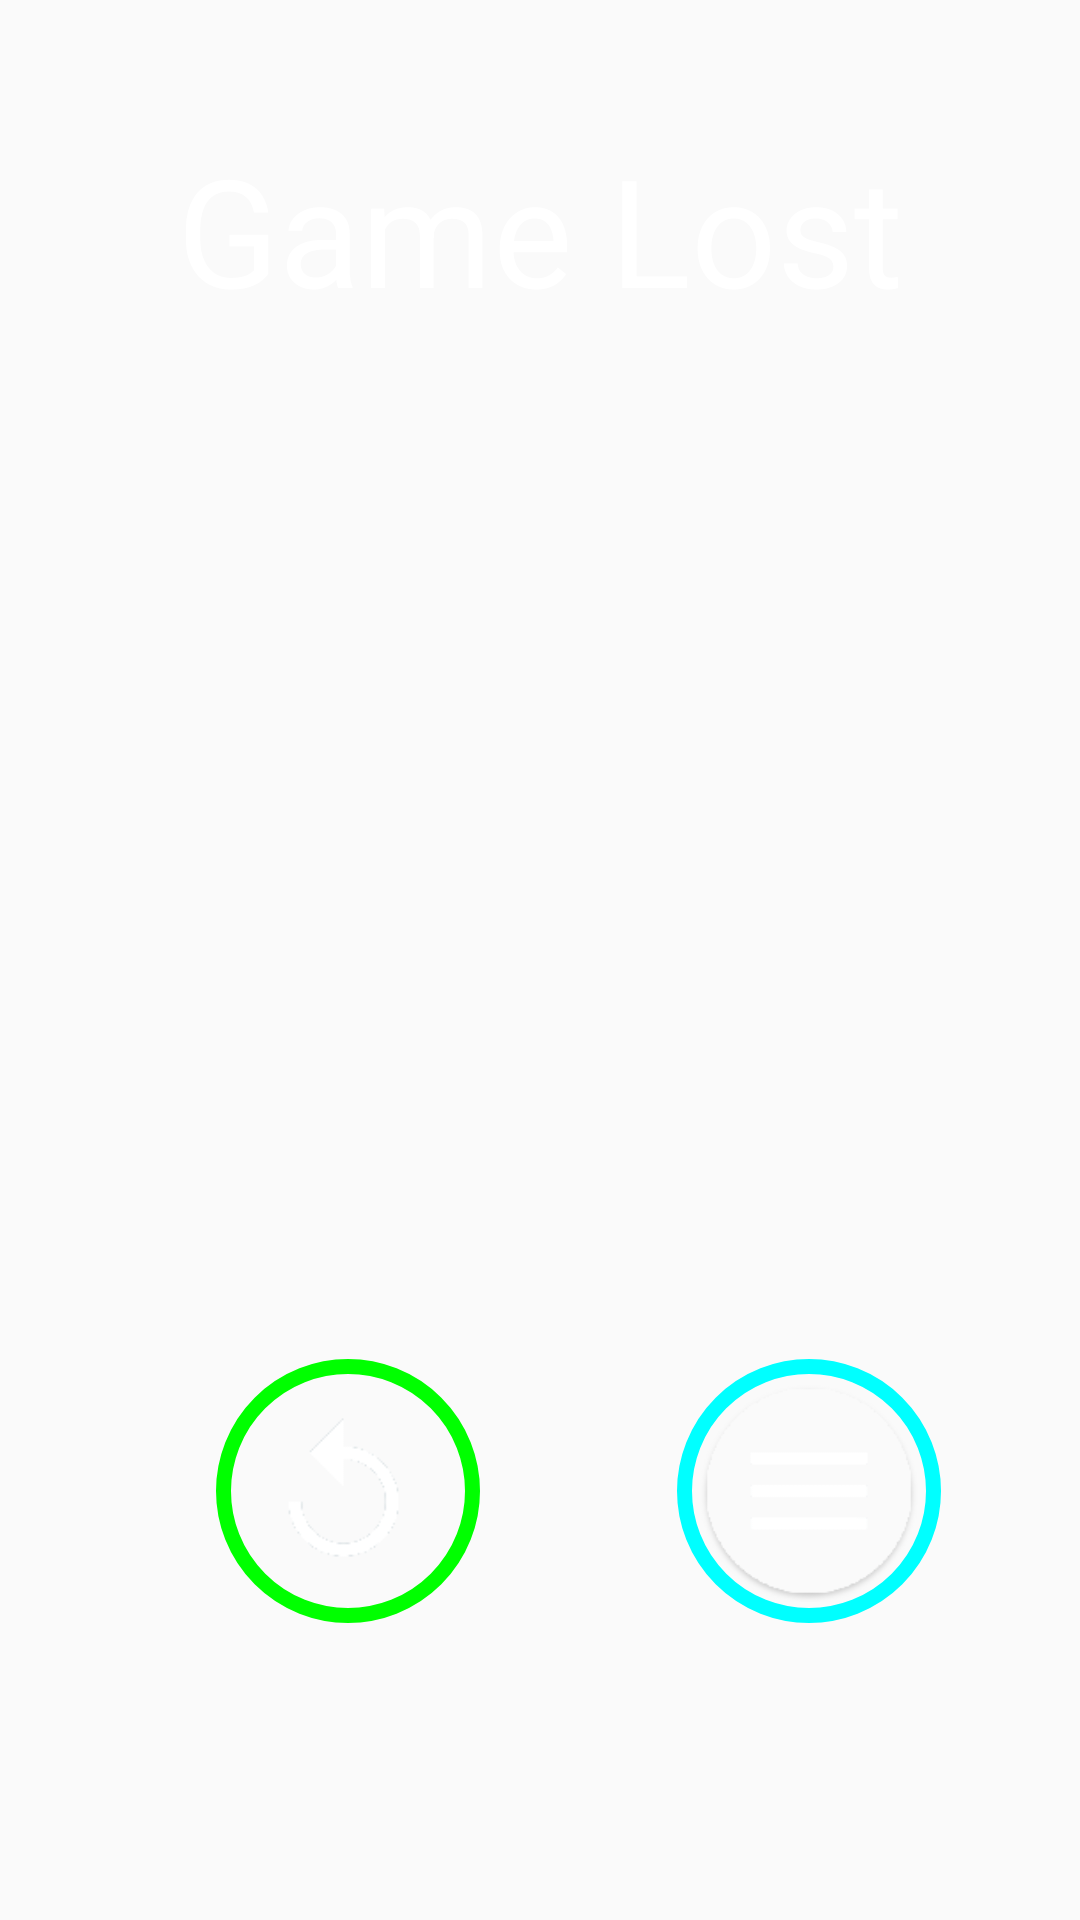

Where to tap for icons on this 1080×1920 app screen, as point (x, y):
menu: point (809, 1491)
retry: point (343, 1487)
